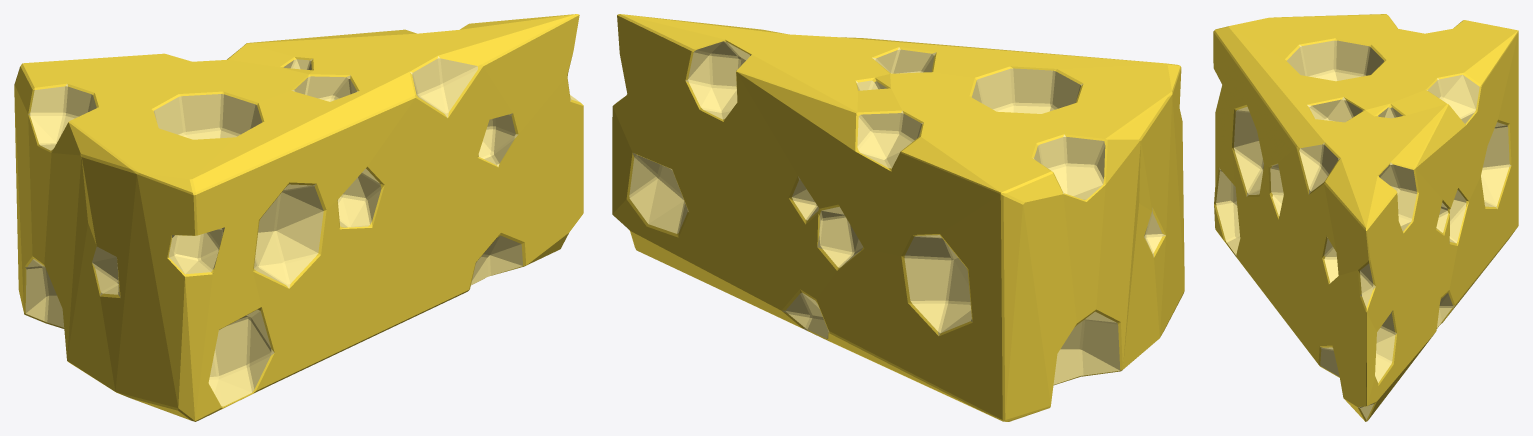
File: peynirr.fbx
The picture shows the model from 3 angles, left to right: view 1: azimuth 30°, elevation 25°; view 2: azimuth 150°, elevation 25°; view 3: azimuth 270°, elevation 25°; orthographic projection. The views are drawn at different scales.
Visible parts, largest first — view 1: Cube.062; view 2: Cube.062; view 3: Cube.062.
Boxes of the visible parts, bbox=[...] form: Cube.062: bbox=[14, 14, 583, 421]; Cube.062: bbox=[612, 14, 1184, 421]; Cube.062: bbox=[1213, 14, 1518, 421].
Bounding box in the file's own units: 57.08 × 33.84 × 25.61.
